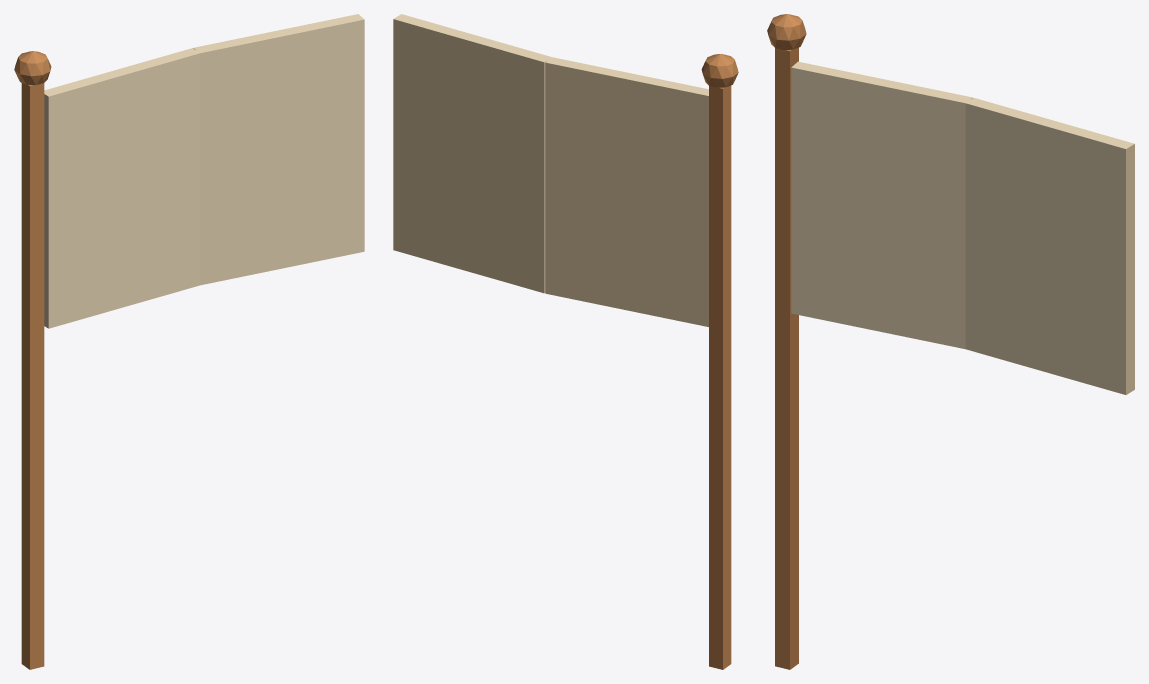
File: flag_small.glb
The picture shows the model from 3 angles, left to right: view 1: azimuth 30°, elevation 25°; view 2: azimuth 150°, elevation 25°; view 3: azimuth 330°, elevation 25°; orthographic projection. The views are drawn at different scales.
Parts seen in each view (by area): view 1: cloth, pole; view 2: cloth, pole; view 3: cloth, pole.
Boxes of the visible parts, x1=… form: cloth: x1=44, y1=14, x2=364, y2=328; pole: x1=14, y1=51, x2=51, y2=669; cloth: x1=393, y1=14, x2=708, y2=326; pole: x1=701, y1=54, x2=738, y2=669; cloth: x1=791, y1=61, x2=1134, y2=394; pole: x1=767, y1=14, x2=806, y2=669.
Bounding box in the file's own units: 0.054 × 0.0926 × 0.0052.
